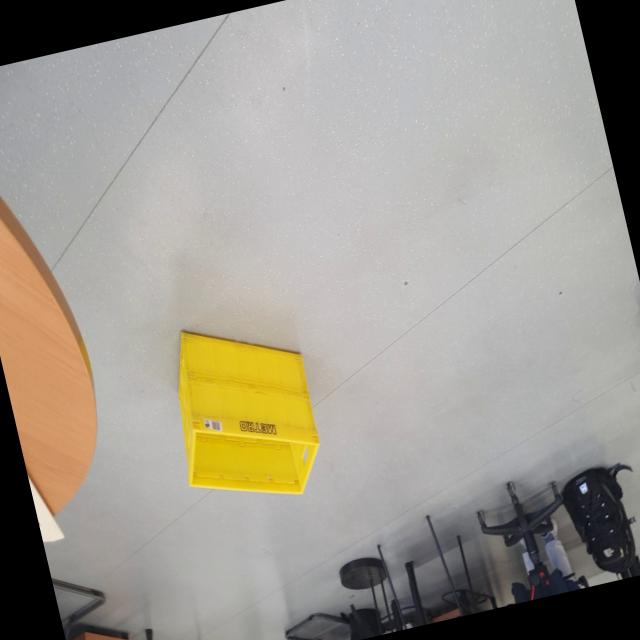box: (150, 292, 344, 546)
